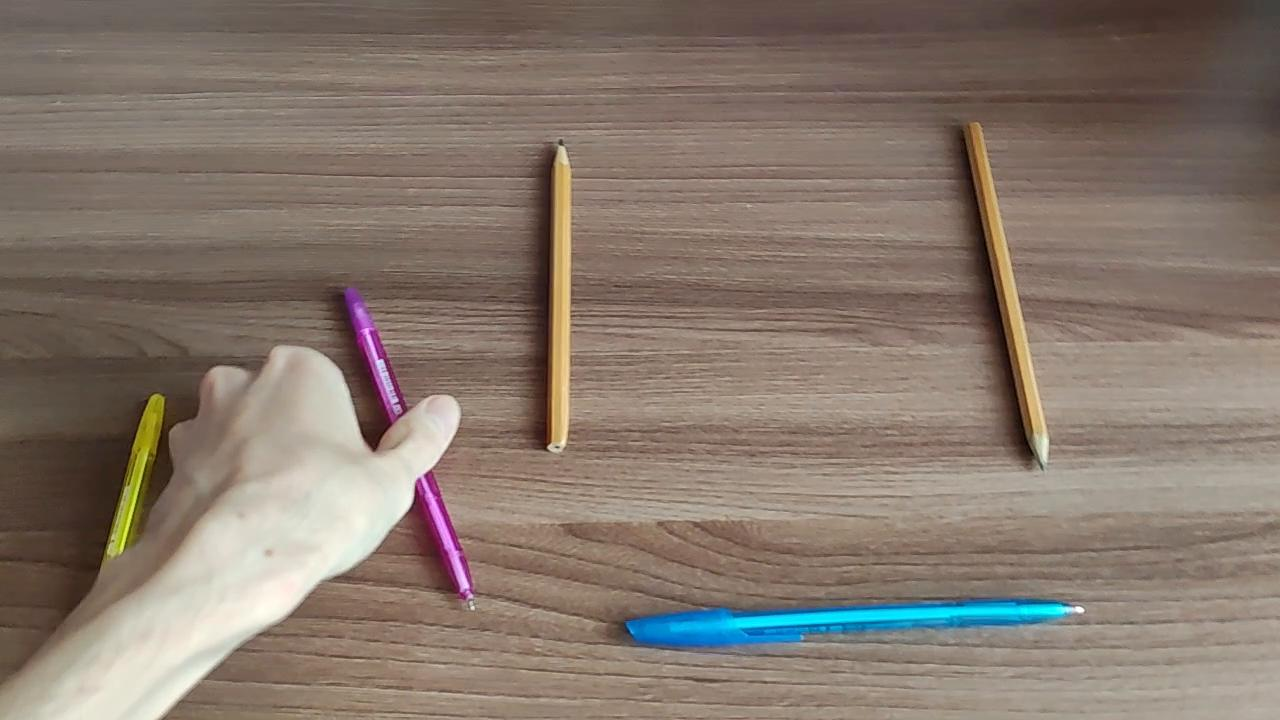pen: (341, 283, 477, 615), (618, 597, 1096, 651), (101, 390, 171, 562)
pencil: (959, 117, 1055, 475), (541, 136, 574, 455)
